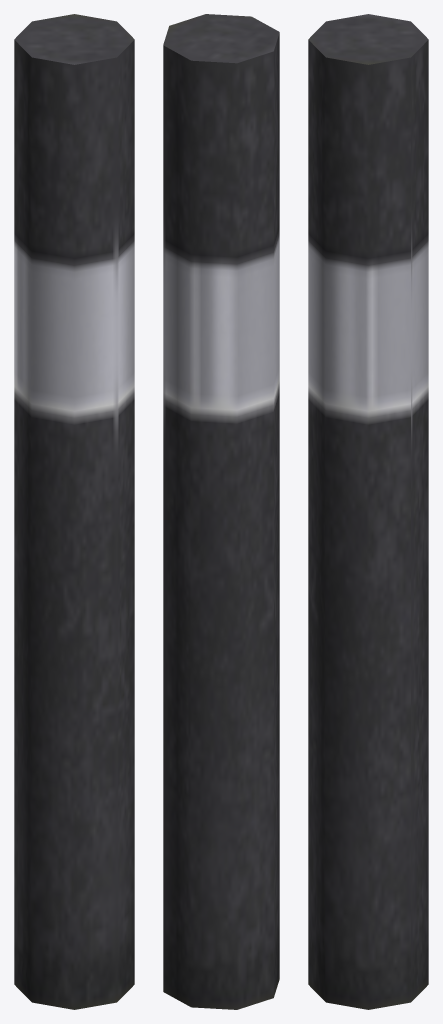
3 renders of one model, left to right at view 1: azimuth 90°, elevation 25°; view 2: azimuth 150°, elevation 25°; view 3: azimuth 270°, elevation 25°, orthographic.
Visible parts, largest first — view 1: prop_cylinder_LOD0; view 2: prop_cylinder_LOD0; view 3: prop_cylinder_LOD0.
Part boxes in pixels (x1,y1,x2,y2): prop_cylinder_LOD0: (14,14,134,1009); prop_cylinder_LOD0: (163,14,279,1009); prop_cylinder_LOD0: (308,14,428,1009).
Size of what is drawn, in the model's own units: 0.1156 by 1 by 0.1156.
